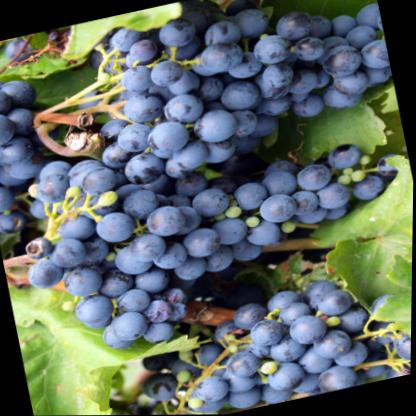grape: (5, 83, 414, 371), (52, 0, 405, 203), (87, 252, 413, 415)
